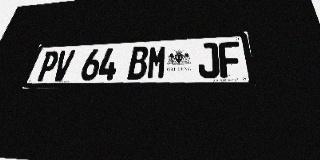4: (97, 48, 120, 80)
6: (79, 48, 103, 81)
B: (127, 46, 149, 80)
F: (218, 41, 243, 78)
J: (198, 42, 220, 78)
M: (146, 45, 167, 79)
P: (35, 51, 60, 81)
V: (51, 50, 76, 81)
